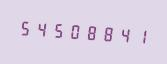eight: (81, 19, 96, 44), (97, 21, 112, 45)
five: (17, 15, 32, 40), (49, 17, 64, 42)
four: (33, 16, 48, 41), (113, 22, 128, 47)
one: (129, 23, 144, 48)
zero: (65, 18, 80, 43)
